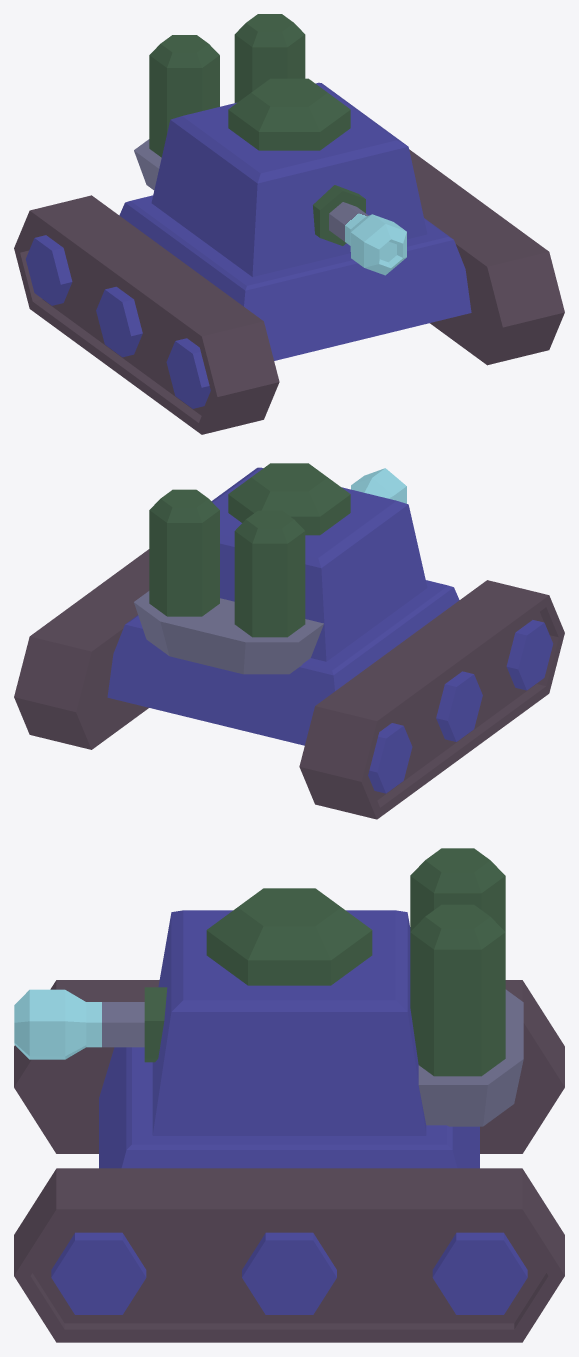
The model's file is TankModel.glb.
3 renders of one model, top to bottom at view 1: azimuth 30°, elevation 25°; view 2: azimuth 150°, elevation 25°; view 3: azimuth 270°, elevation 25°, orthographic. The views are drawn at different scales.
Parts seen in each view (by area): view 1: Cube; view 2: Cube; view 3: Cube.
Part boxes in pixels (bbox=[...]): Cube: bbox=[14, 14, 564, 434]; Cube: bbox=[14, 463, 564, 819]; Cube: bbox=[14, 848, 564, 1342].
Size of the model in its own units: 2.88 by 1.96 by 2.89.
Materials: 1 (1 with a texture image).
